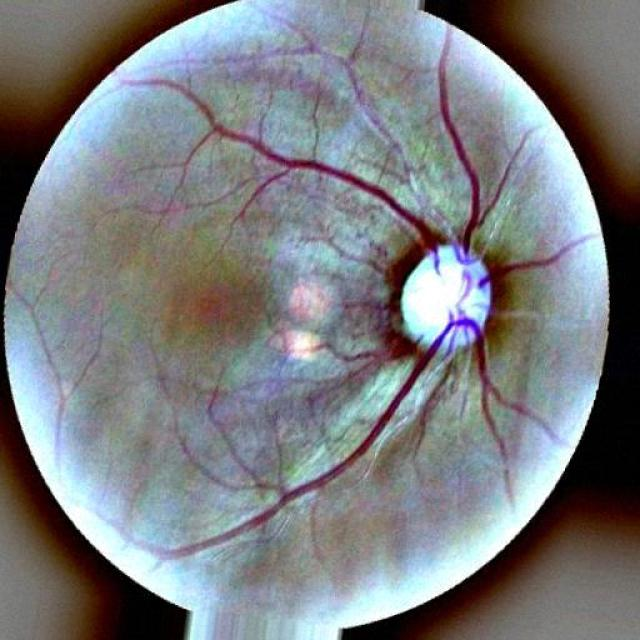Optic Disk: (401, 244, 491, 355)
